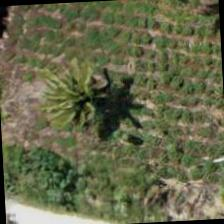Kelapa_Sawit: (44, 53, 139, 148)
